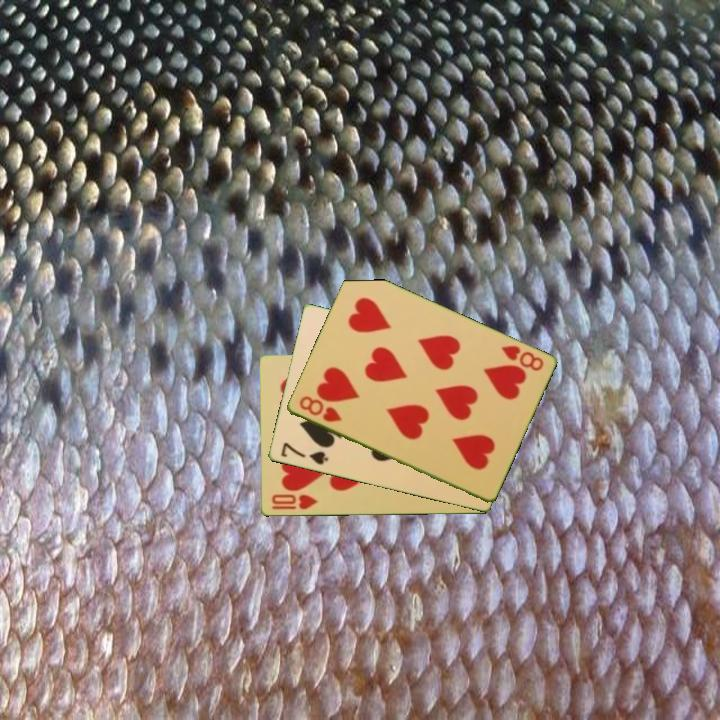10h: (268, 491, 320, 513)
7s: (277, 439, 331, 468)
8h: (295, 392, 344, 425), (497, 342, 546, 374)
